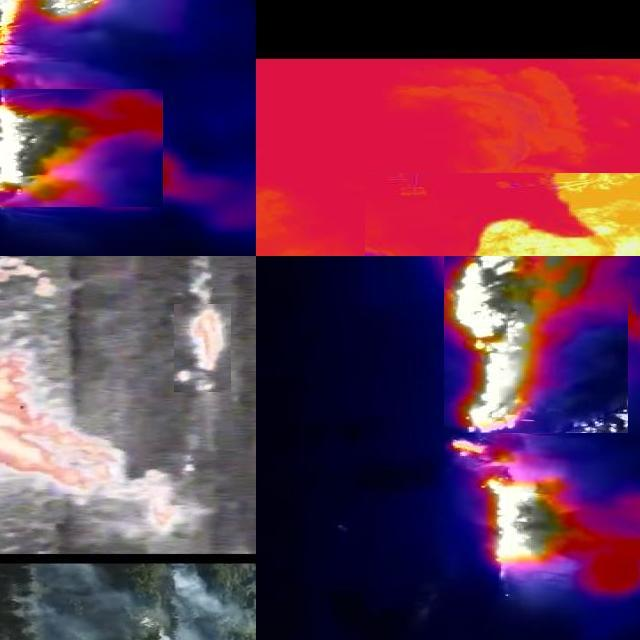fire: (444, 257, 628, 434), (365, 174, 640, 257), (444, 436, 582, 577), (1, 89, 163, 208), (1, 356, 125, 495), (1, 257, 70, 359), (174, 305, 231, 393), (137, 470, 183, 532)
